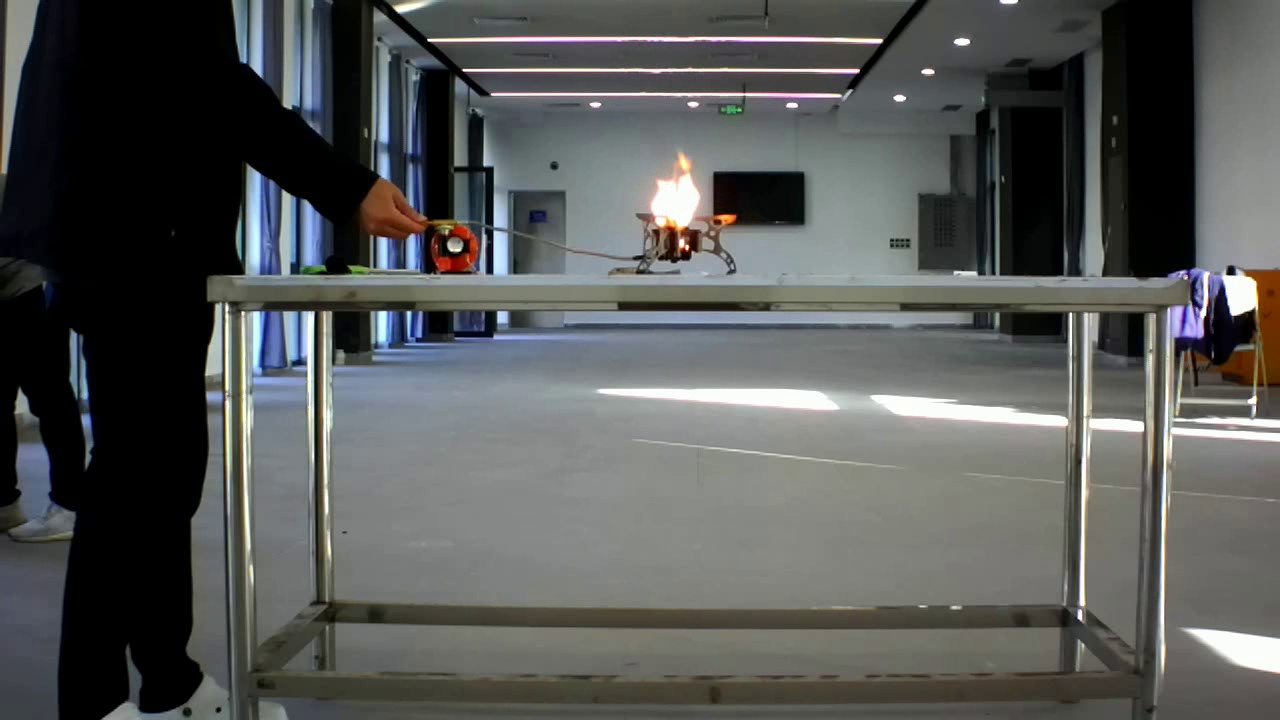Fire: (635, 142, 744, 262)
